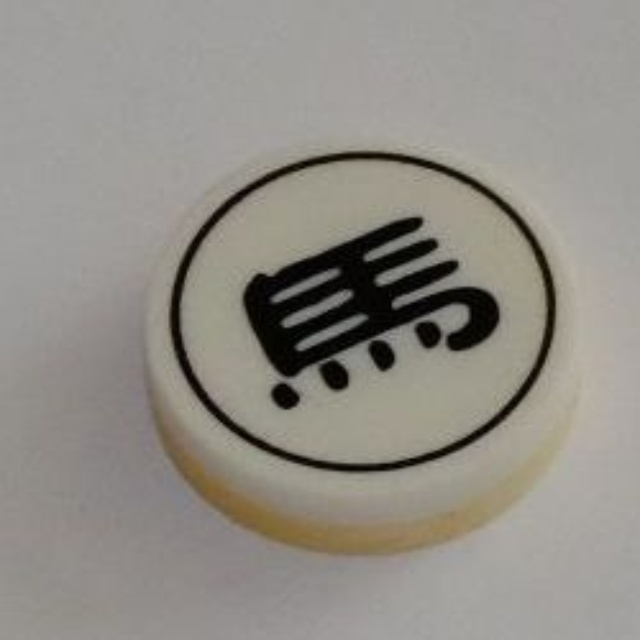black_ma: (140, 134, 595, 551)
